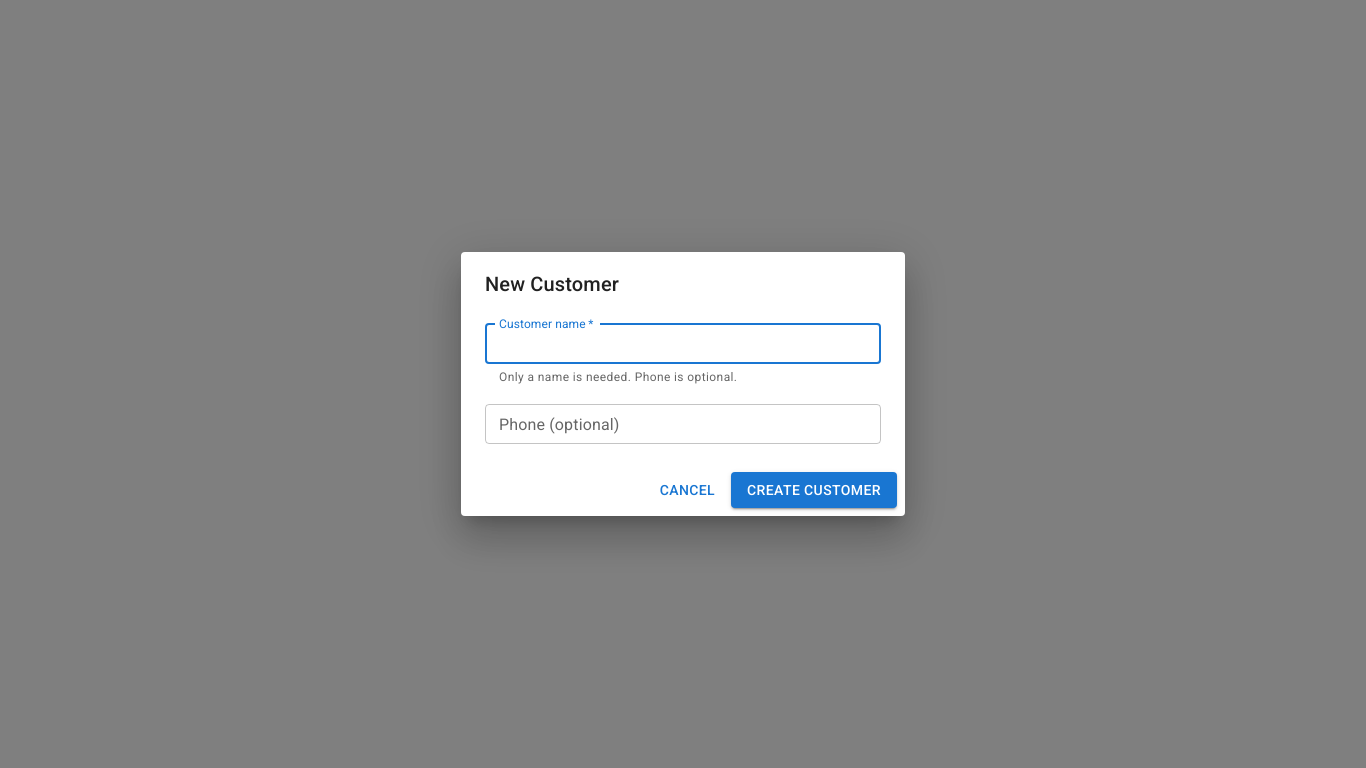
Test case: QuickCustomerDialog › shows the server error message when creation fails
Type "Rahim" into the field labelled "Customer name *". click: (683, 344)
box: [485,324,881,364]
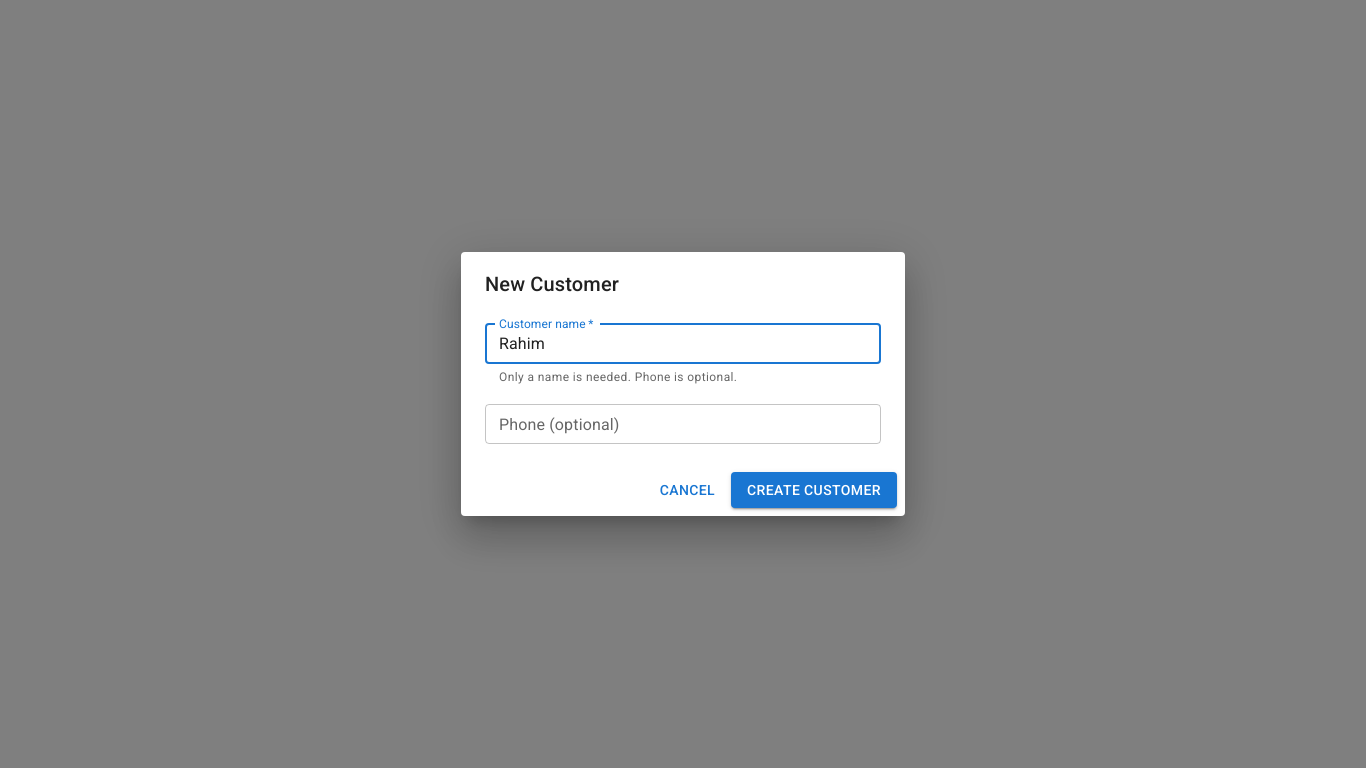
Click the button "Create Customer". click: (814, 490)
box: [731,472,897,508]
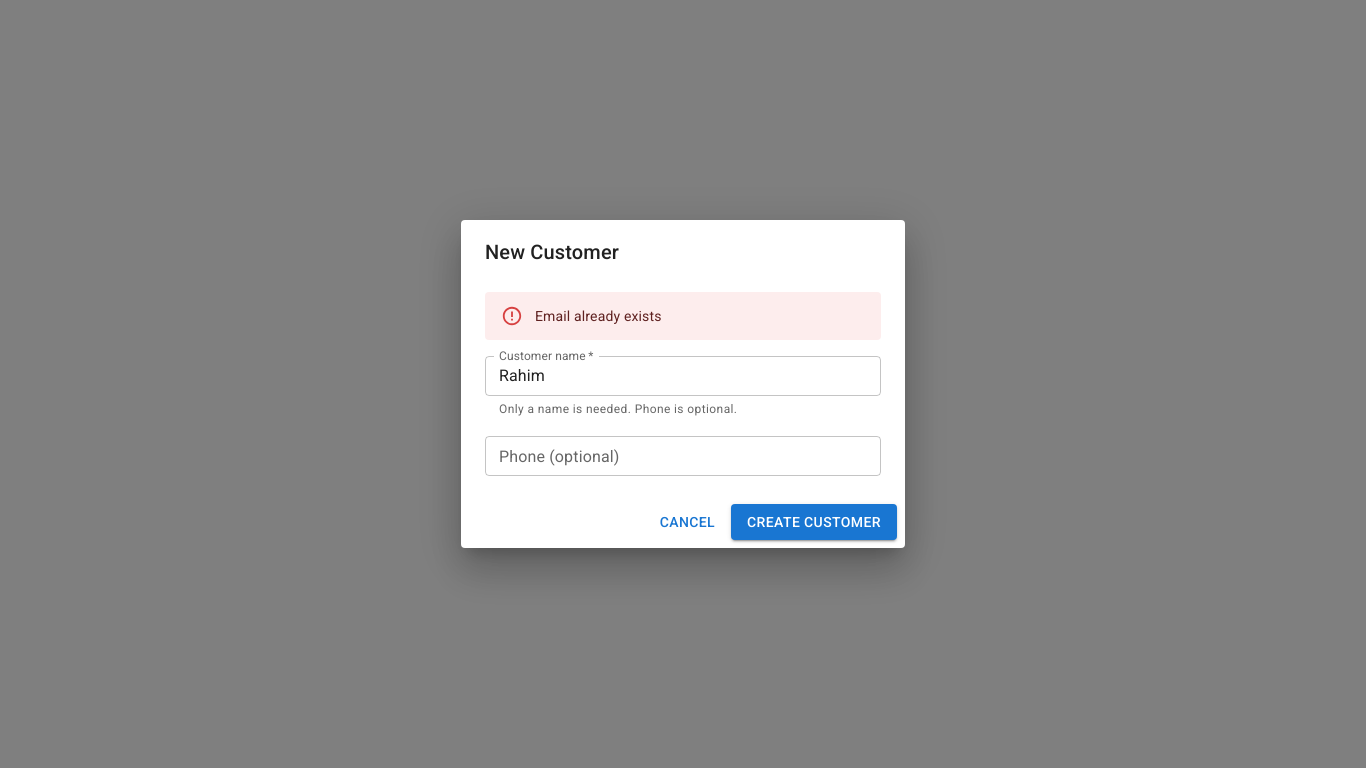
Expected: the text "Email already exists" is shown, [535,308,662,324]
